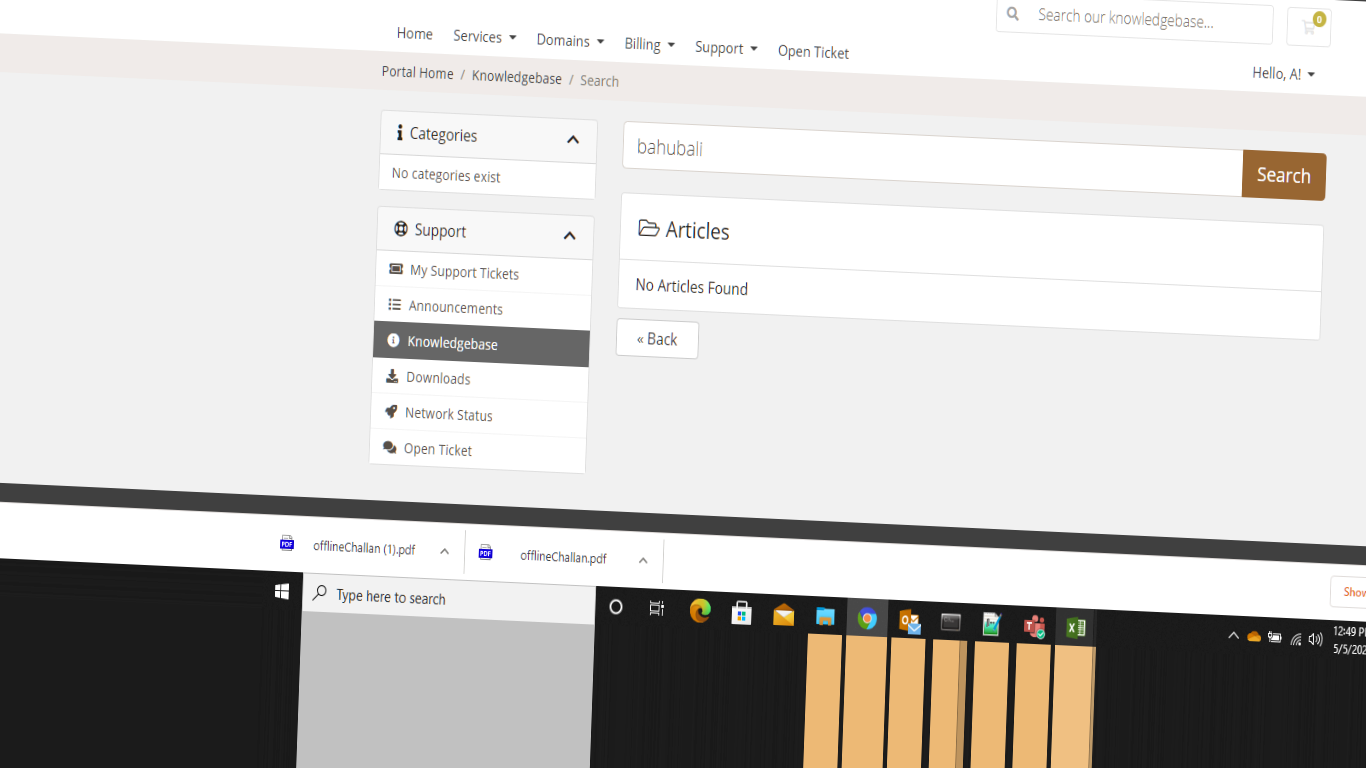backbutton: (603, 311, 737, 374)
profileicon: (1248, 56, 1325, 86)
searchicon: (1000, 3, 1020, 27)
searchtextbox: (619, 118, 1242, 200), (995, 1, 1275, 42)
